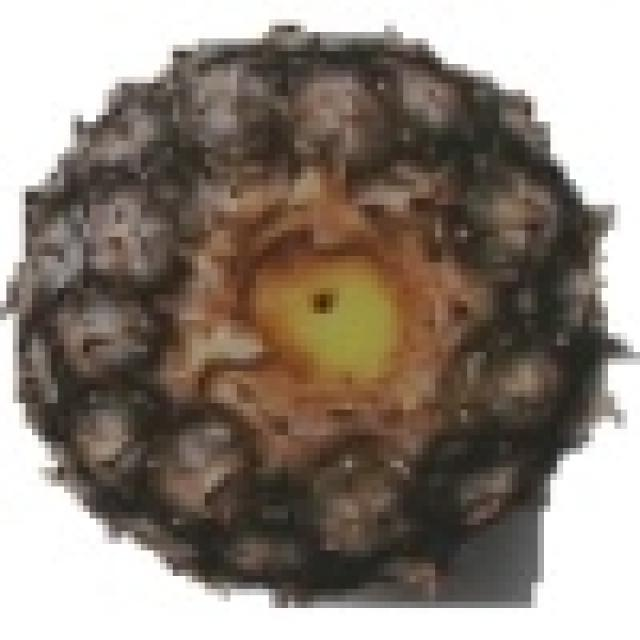pineapple: (6, 19, 595, 589)
